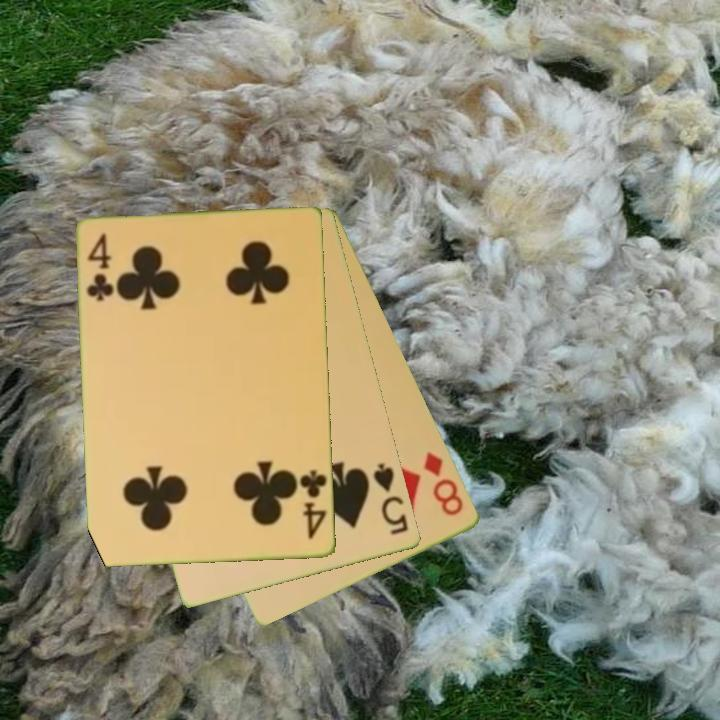4c: (297, 467, 330, 542), (83, 230, 116, 305)
5s: (370, 459, 412, 538)
8d: (420, 448, 467, 519)
